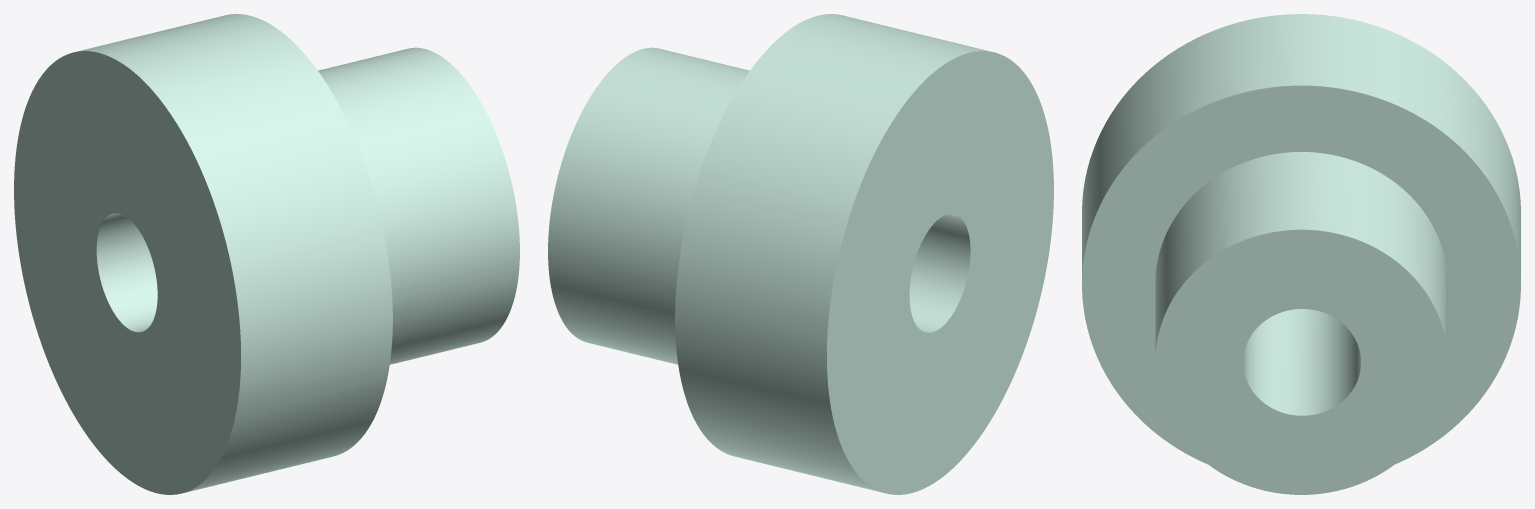
3 views of the same model, side by side, from view 1: azimuth 30°, elevation 25°; view 2: azimuth 150°, elevation 25°; view 3: azimuth 270°, elevation 25° (orthographic). The views are drawn at different scales.
Visible parts, largest first — view 1: Renderer Node; view 2: Renderer Node; view 3: Renderer Node.
Part boxes in pixels (bbox=[...]): Renderer Node: bbox=[14, 14, 519, 494]; Renderer Node: bbox=[548, 14, 1053, 494]; Renderer Node: bbox=[1082, 14, 1520, 494].
Size of the model in its own units: 0.75 by 0.9316 by 0.9313.
